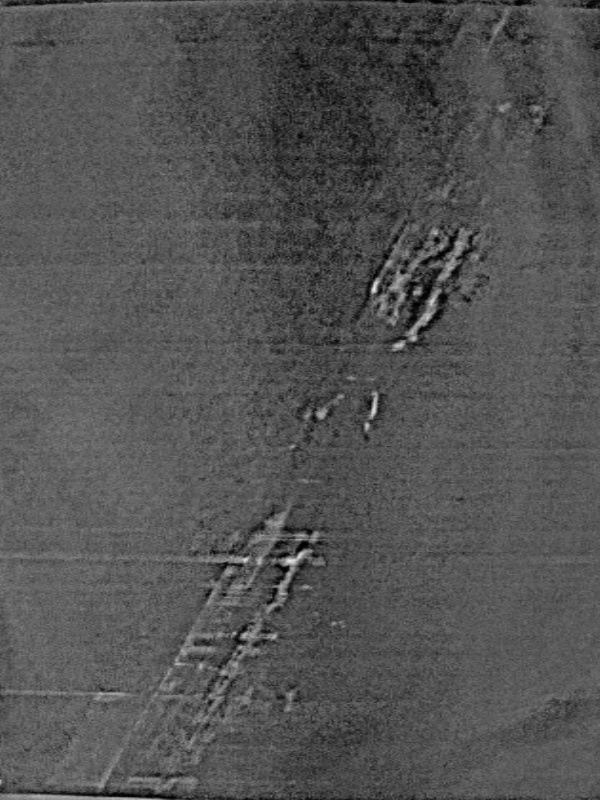splice_vulcanized: (63, 7, 561, 792)
